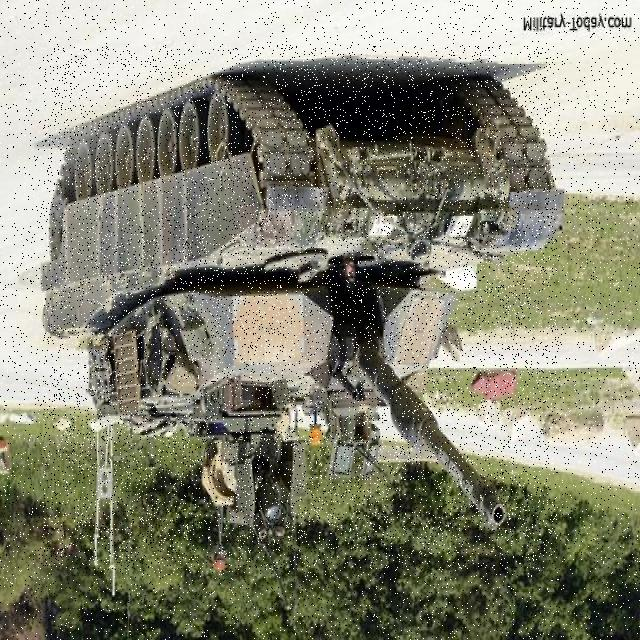MIL_MBT: (43, 46, 557, 570)
